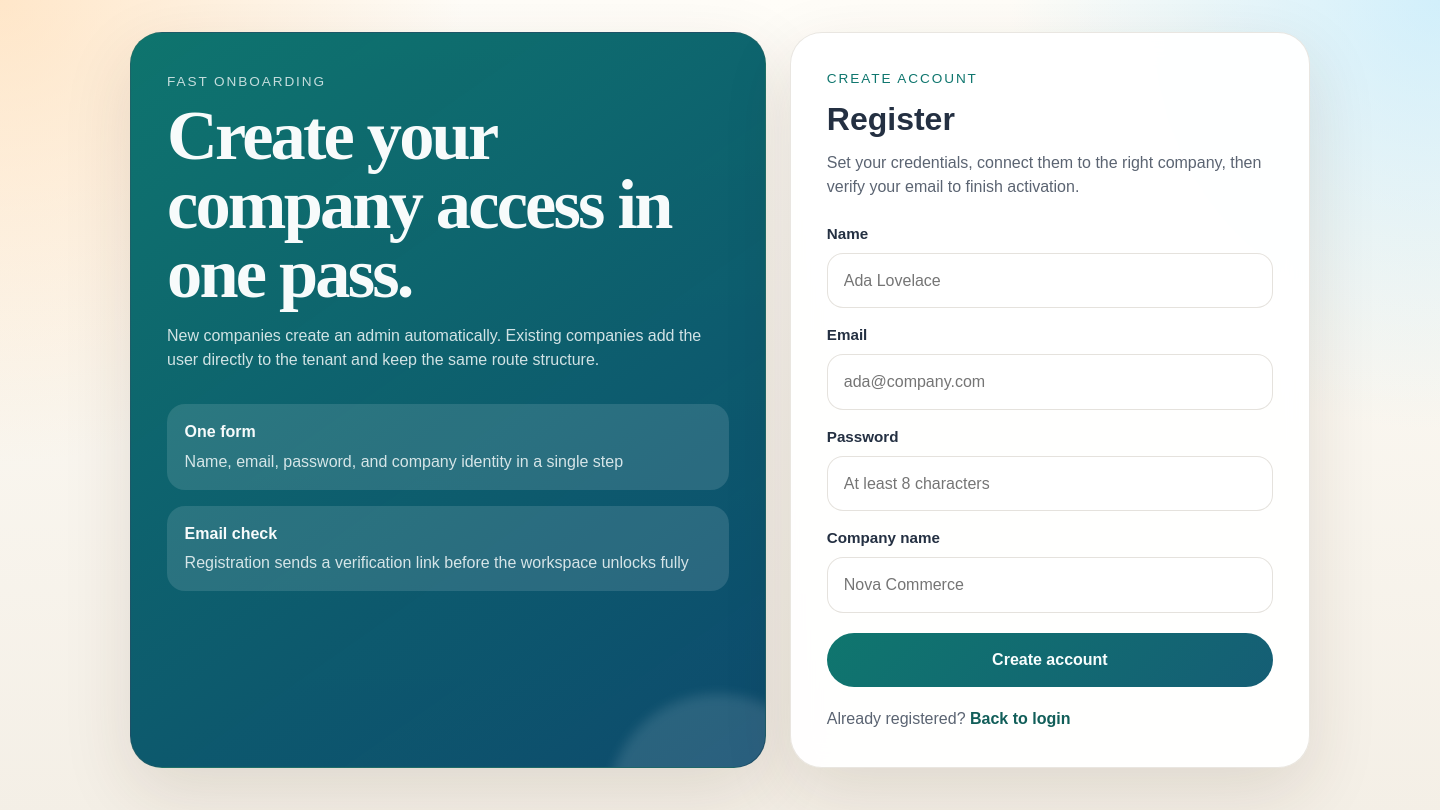
authentication app flow › creates an account and shows the "check your email" state on valid registration
Type "Grace Hopper" into the field labelled "Name".
click(1050, 281); type("Grace Hopper")  # box [827,253,1273,308]
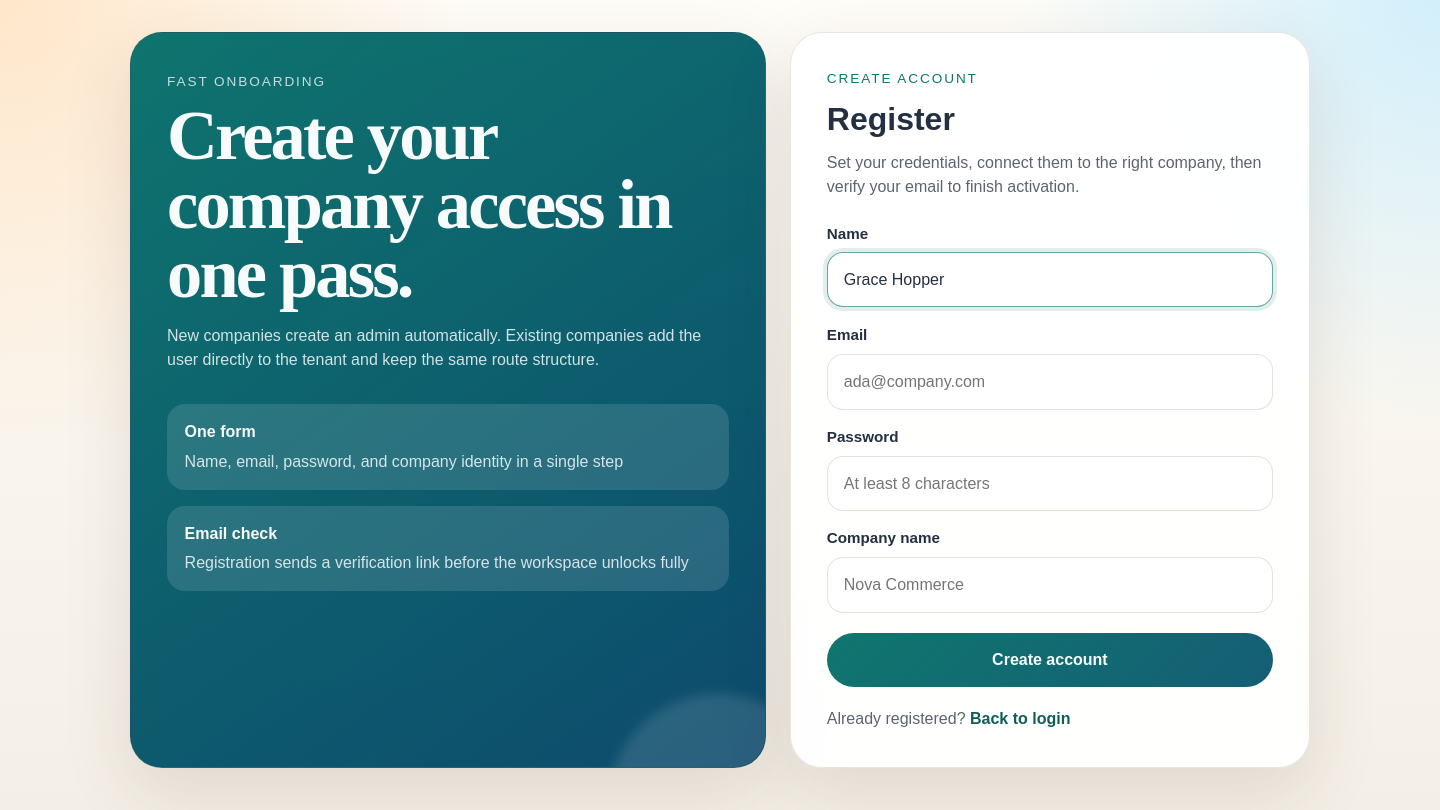
Type "grace@example.com" into the field labelled "Email".
click(1050, 382); type("grace@example.com")  # box [827,354,1273,410]
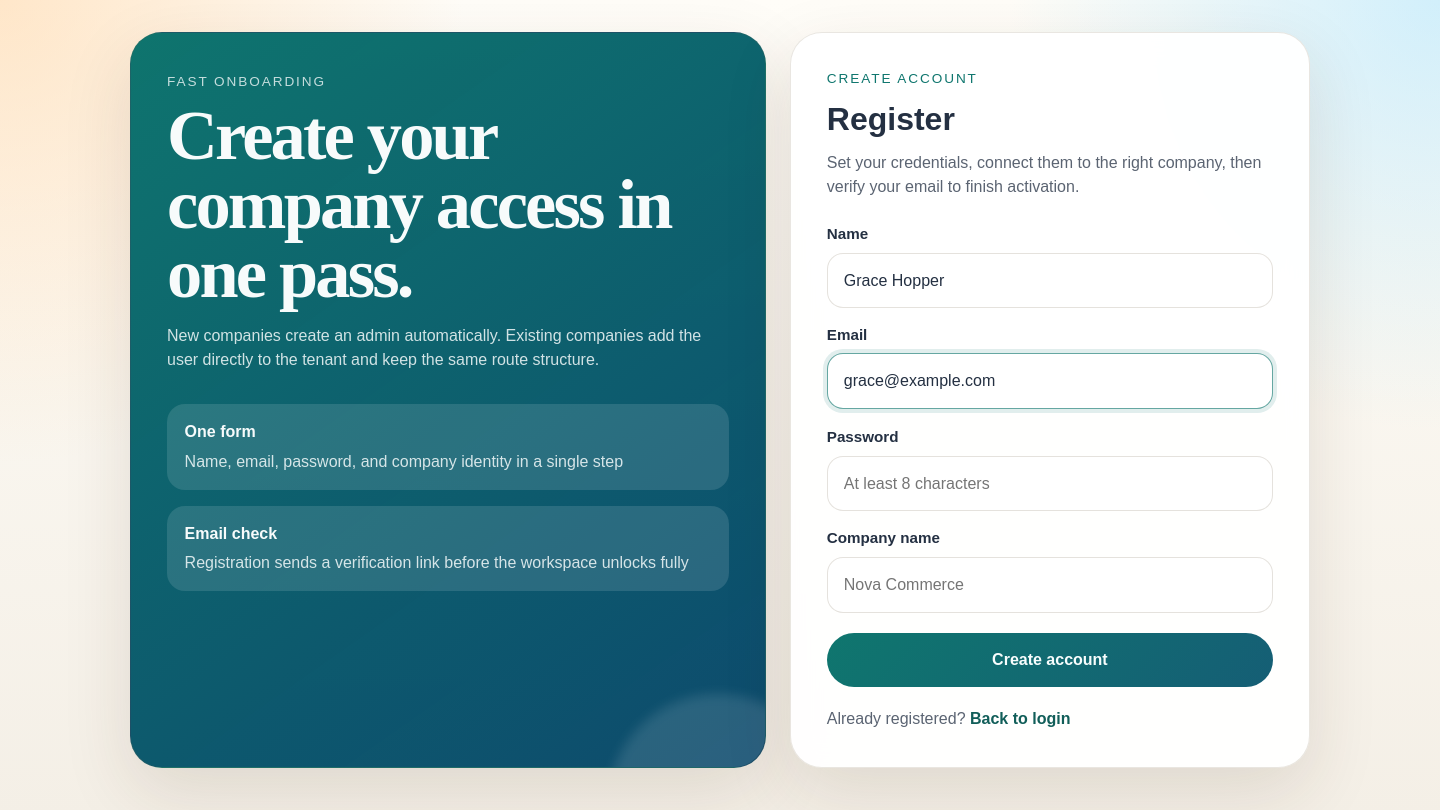
Type "password123" into the password field labelled "Password".
click(1050, 484); type("password123")  # box [827,456,1273,511]
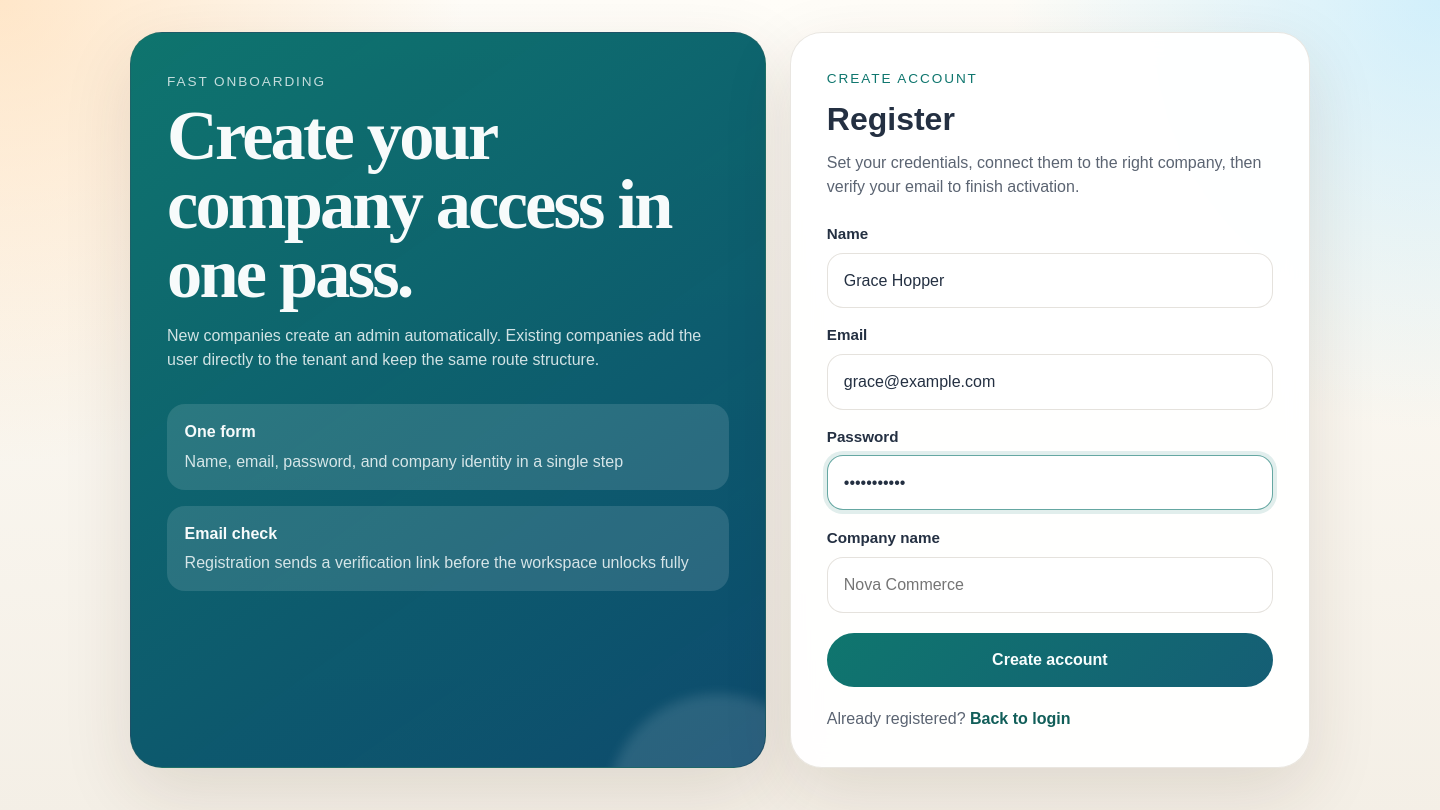
Type "Nova" into the field labelled "Company name".
click(1050, 585); type("Nova")  # box [827,557,1273,613]
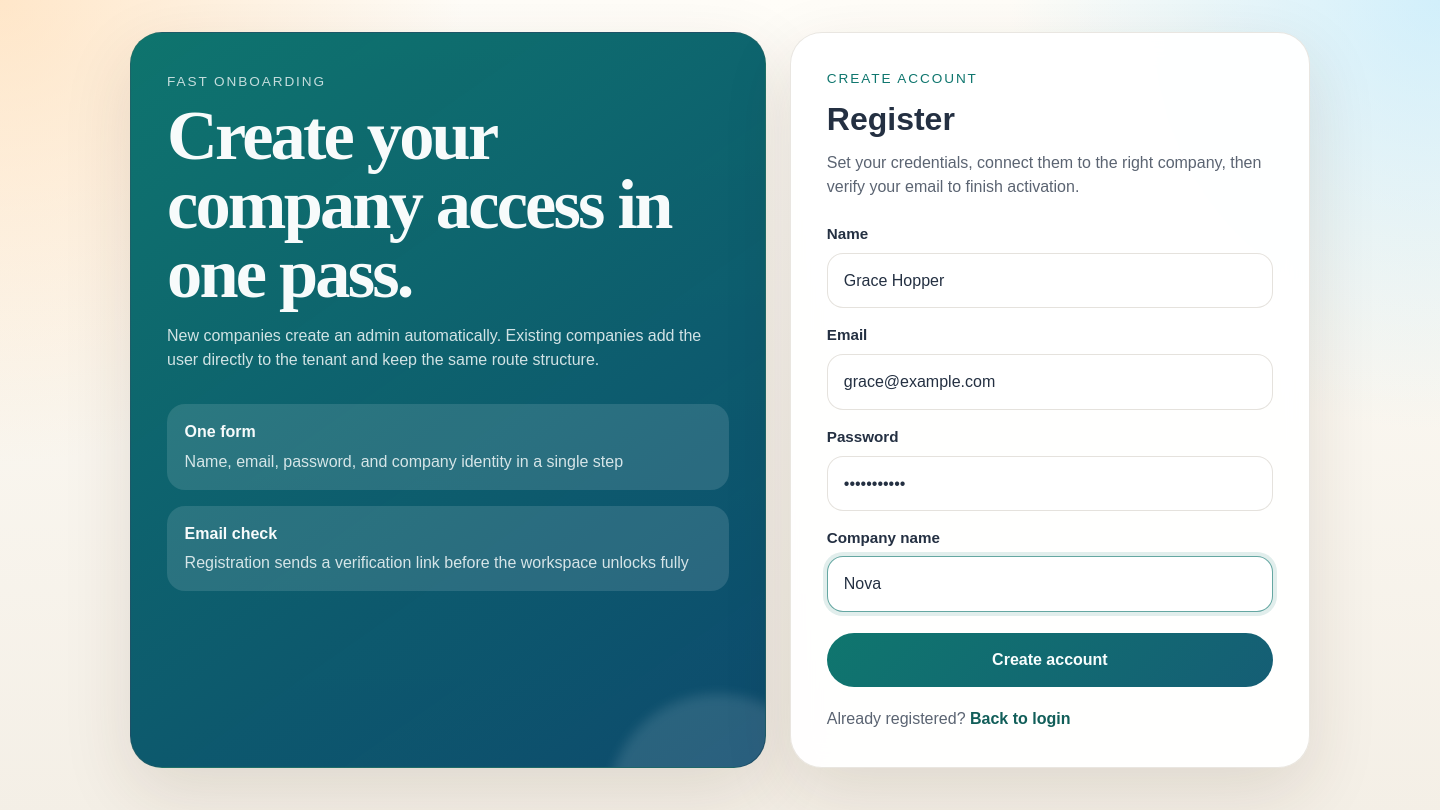
Click the button "Create account".
click(1050, 660)  # box [827,633,1273,687]
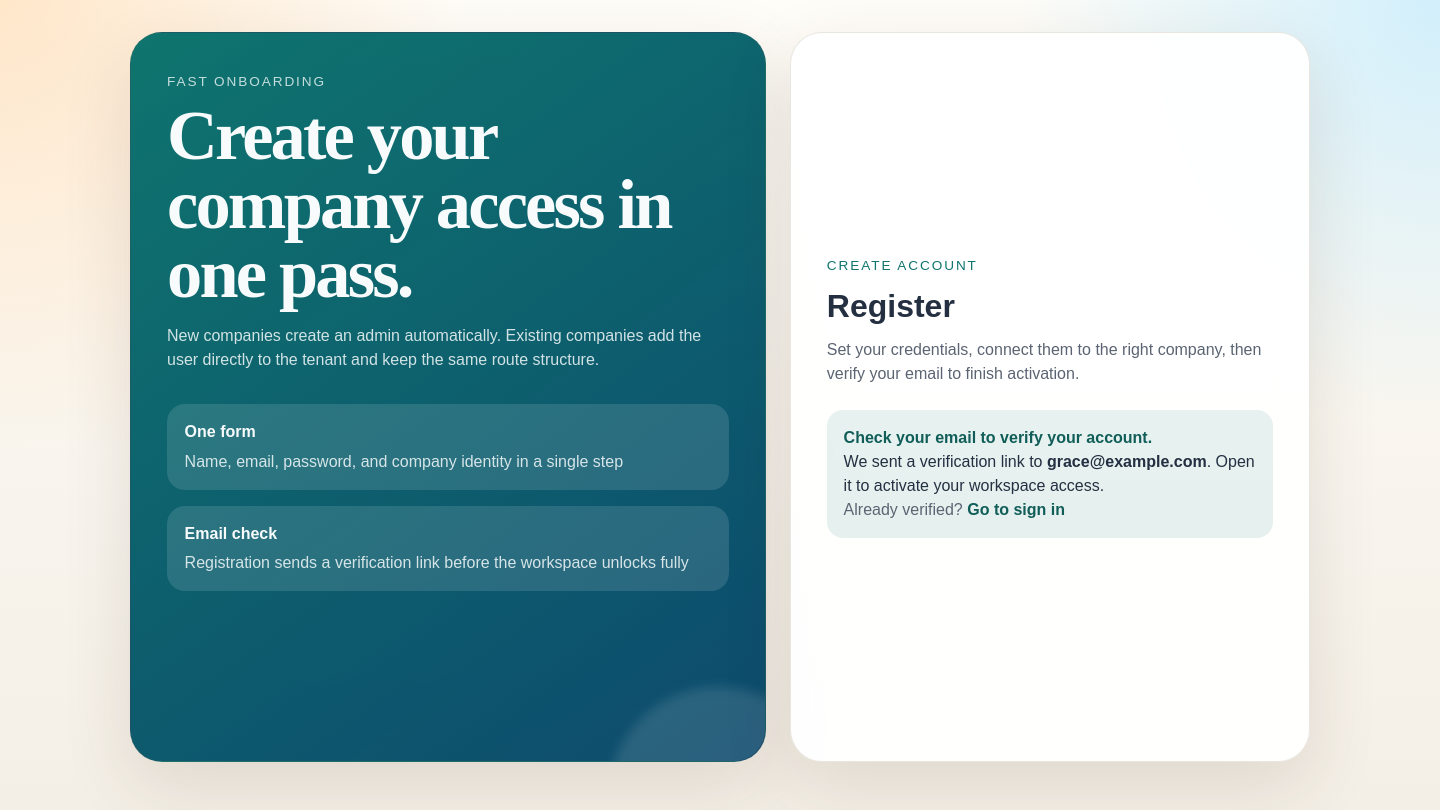
Now the text "Check your email to verify your account." is shown, box [844,429,1152,446]
